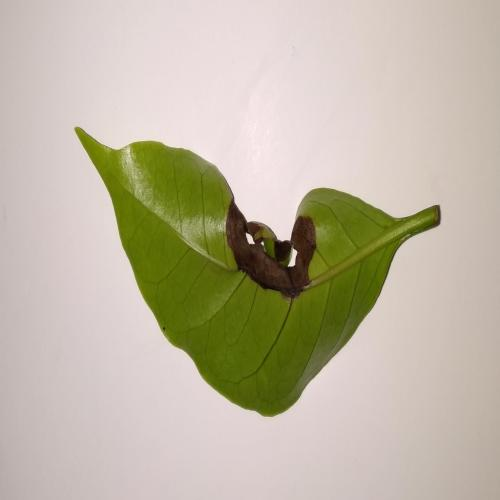miner: (226, 184, 316, 301)
